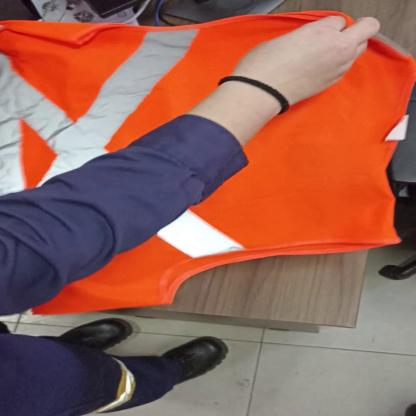colete: (1, 17, 401, 313)
